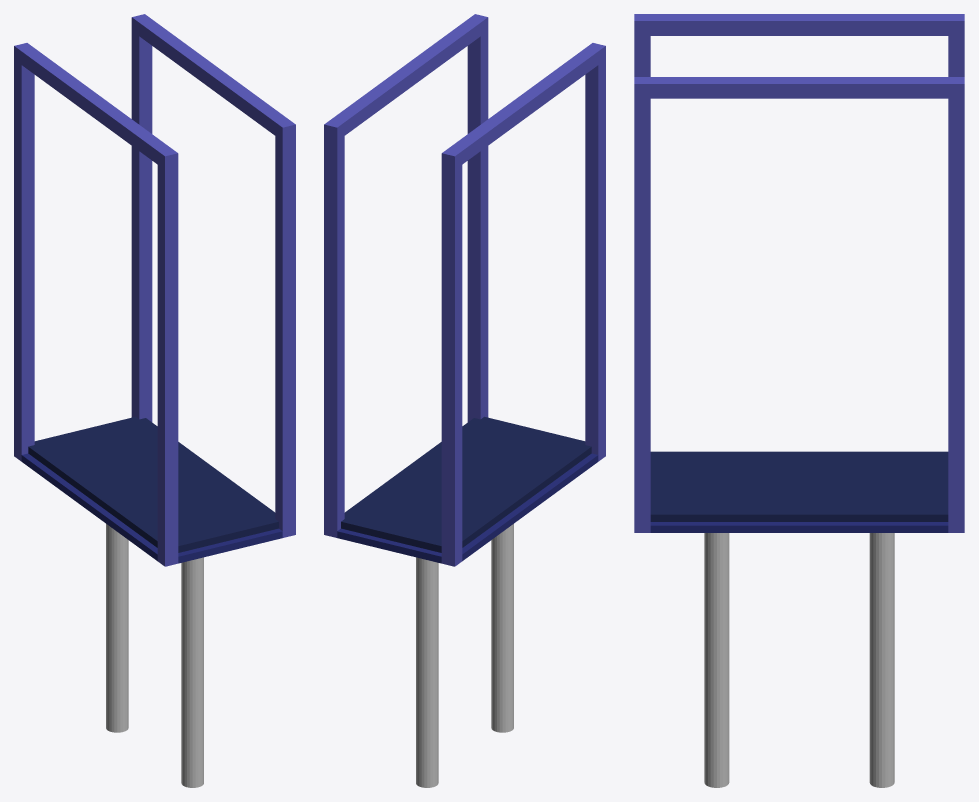
Rendered from Elevator.fbx.
3 views of the same model, side by side, from view 1: azimuth 30°, elevation 25°; view 2: azimuth 150°, elevation 25°; view 3: azimuth 270°, elevation 25° (orthographic). The views are drawn at different scales.
Parts seen in each view (by area): view 1: Elevator, Platform, Platform.001, Platform.002; view 2: Elevator, Platform, Platform.002, Platform.001; view 3: Elevator, Platform, Platform.002, Platform.001.
Part boxes in pixels (left/top/right/bottom): Elevator: left=14, top=14, right=295, bottom=566; Platform: left=28, top=416, right=278, bottom=552; Platform.001: left=181, top=557, right=203, bottom=787; Platform.002: left=106, top=524, right=128, bottom=732; Elevator: left=324, top=14, right=605, bottom=566; Platform: left=341, top=416, right=591, bottom=552; Platform.002: left=416, top=557, right=438, bottom=787; Platform.001: left=491, top=524, right=513, bottom=732; Elevator: left=634, top=14, right=964, bottom=532; Platform: left=650, top=451, right=948, bottom=521; Platform.002: left=869, top=533, right=894, bottom=787; Platform.001: left=704, top=533, right=729, bottom=787.
Size of the model in its own units: 2 by 9.8 by 4.
